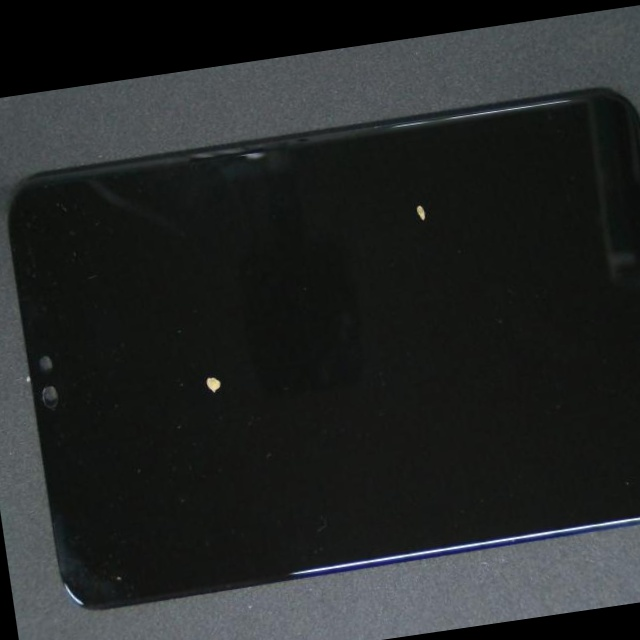stain: (177, 70, 640, 306), (86, 188, 331, 522)
